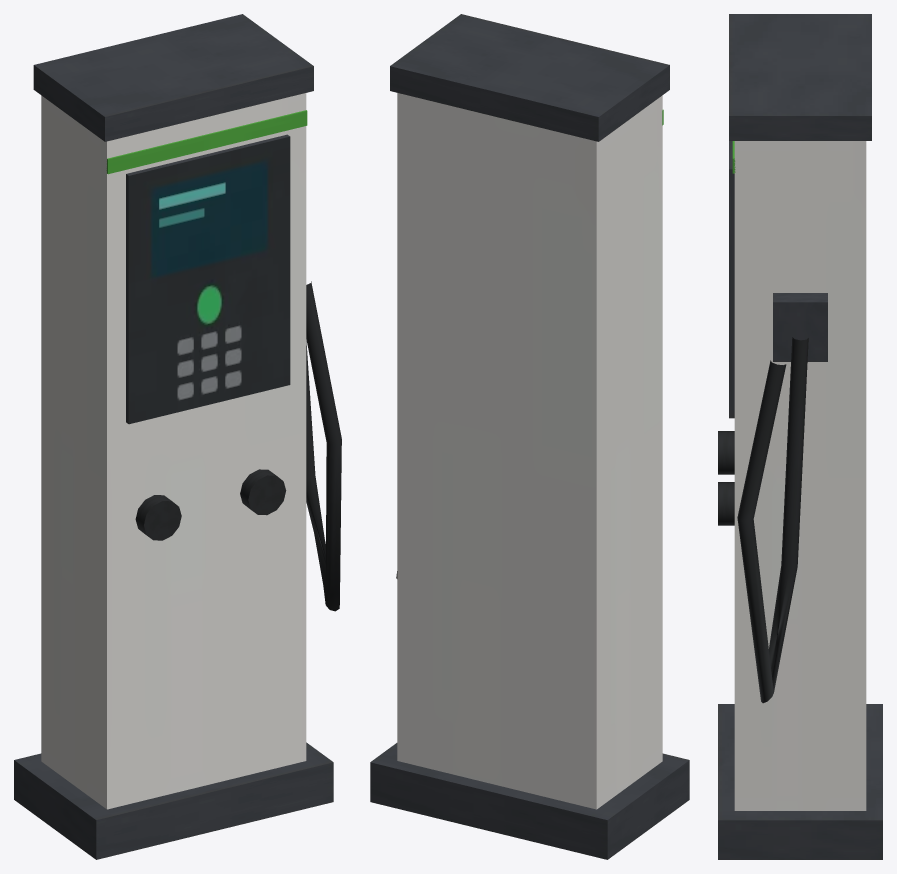
The model's file is borne_recharge_lod0.glb.
3 renders of one model, left to right at view 1: azimuth 30°, elevation 25°; view 2: azimuth 150°, elevation 25°; view 3: azimuth 270°, elevation 25°, orthographic.
Visible parts, largest first — view 1: borne_recharge; view 2: borne_recharge; view 3: borne_recharge.
Part boxes in pixels (x1=…): borne_recharge: x1=14, y1=14, x2=341, y2=859; borne_recharge: x1=370, y1=14, x2=689, y2=859; borne_recharge: x1=718, y1=14, x2=882, y2=859.
Bounding box in the file's own units: 0.5649 × 1.48 × 0.3.
Materials: 1 (1 with a texture image).
